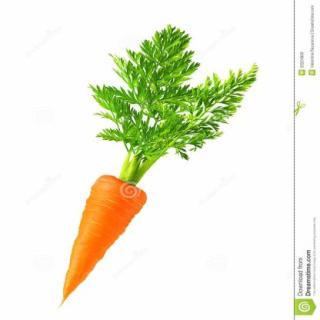Wortel: (58, 175, 148, 308)
